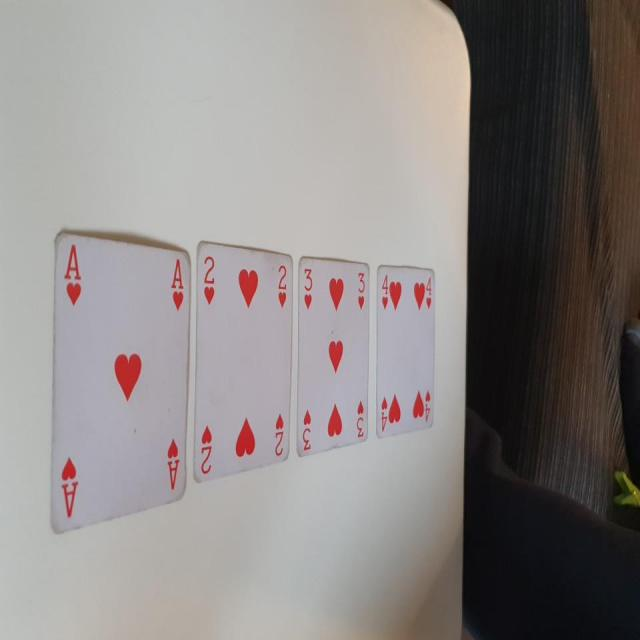2 Hearts: (195, 233, 298, 484)
3 Hearts: (291, 249, 374, 466)
4 Hearts: (374, 263, 438, 444)
A Hearts: (43, 229, 194, 538)
